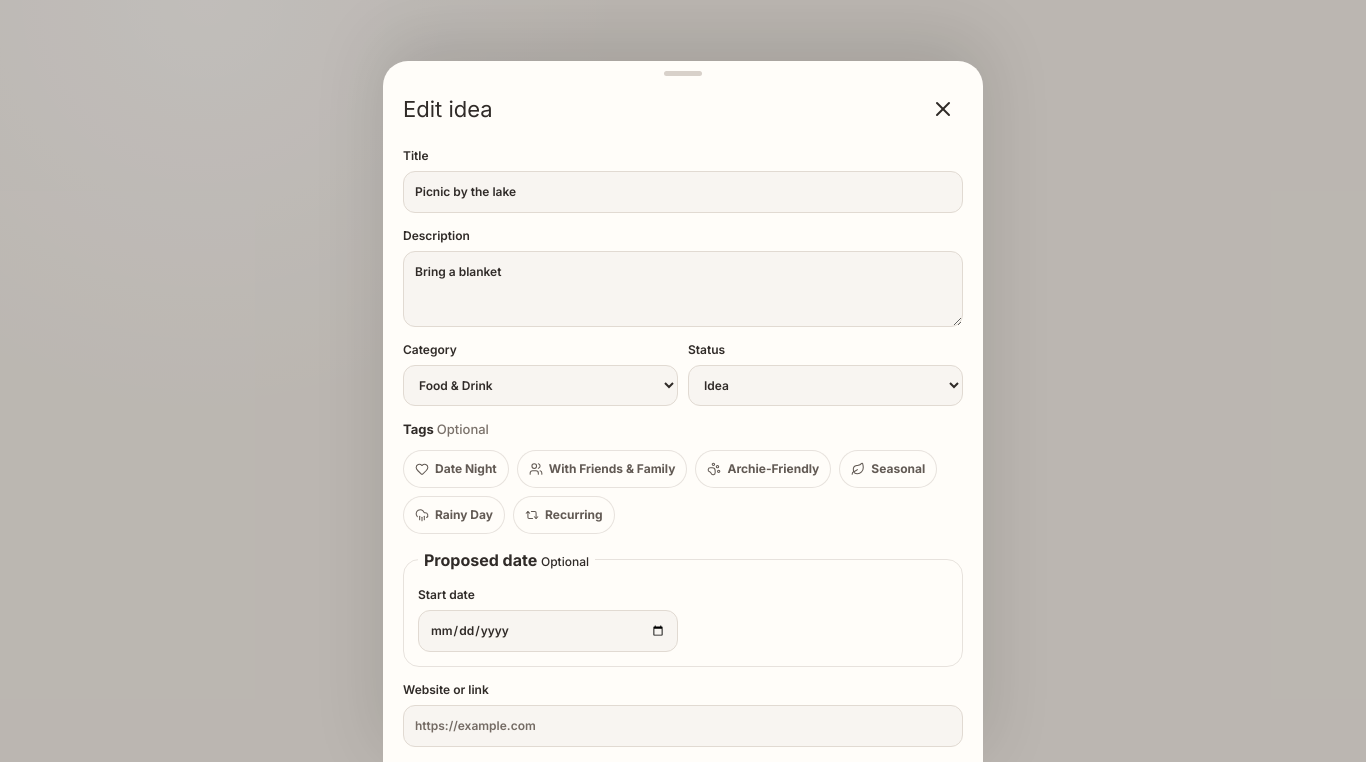
Test: IdeaSheet cover editing › keeps an explicit cover selected after an unsaved category change
Select "Outdoors" in the dropdown labelled "Category" at (540, 386), box left=403, top=366, right=678, bottom=406
(page scrolled)
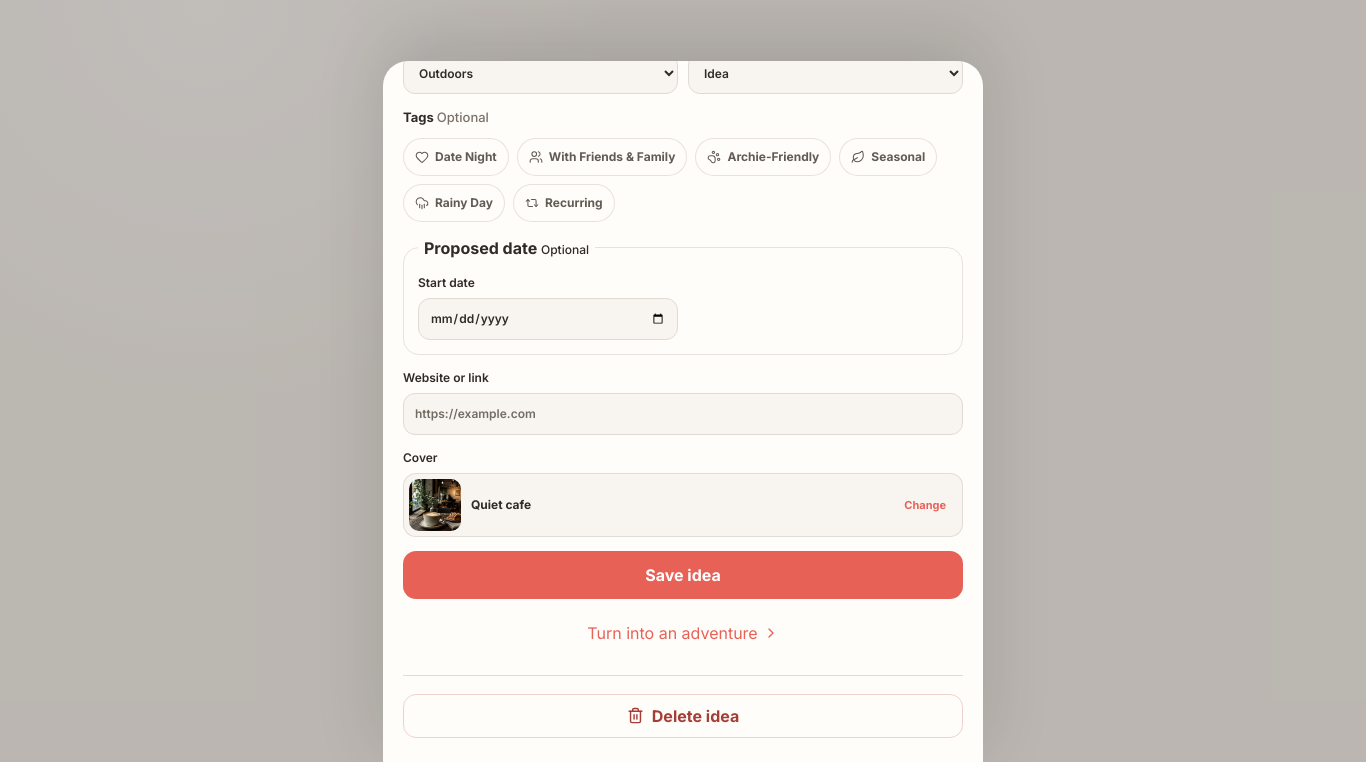
Check: the text "Quiet cafe" is shown, box left=471, top=497, right=531, bottom=512
Click the button with aria-label "Change idea cover" at (435, 505), box left=403, top=473, right=963, bottom=537
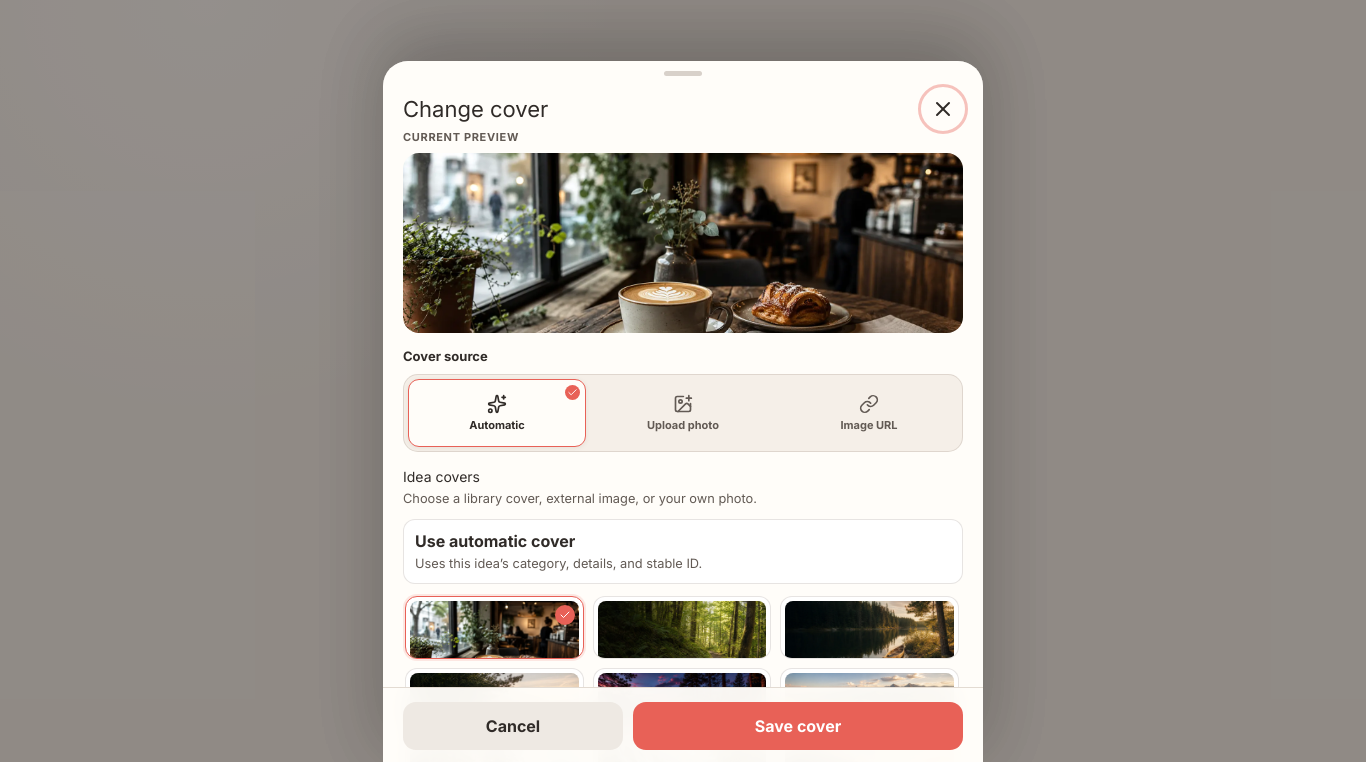
Check: the button with aria-label "Use Forest trail cover" is shown, box left=593, top=596, right=771, bottom=659
